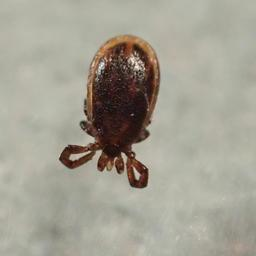Ixodes scapularis: (60, 34, 162, 191)
